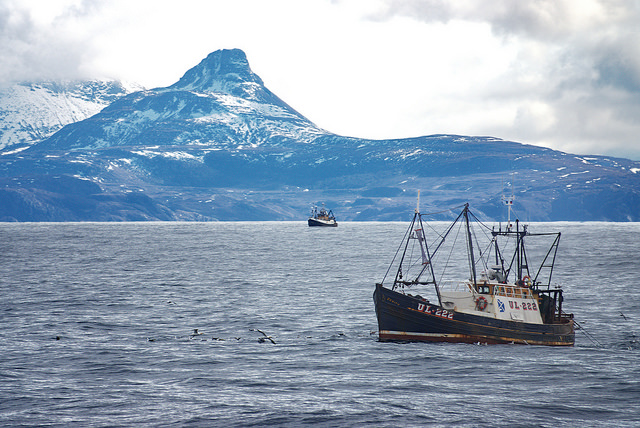fishing_boat: (372, 188, 582, 352), (296, 195, 340, 231)
